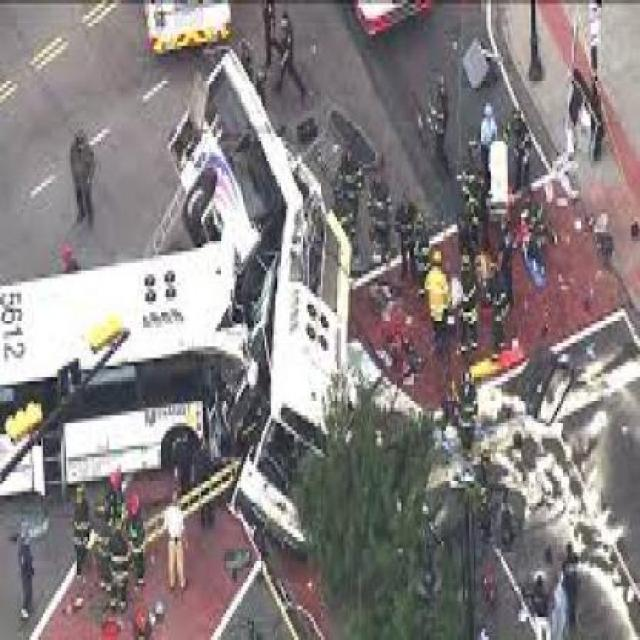accident: (158, 48, 378, 583)
